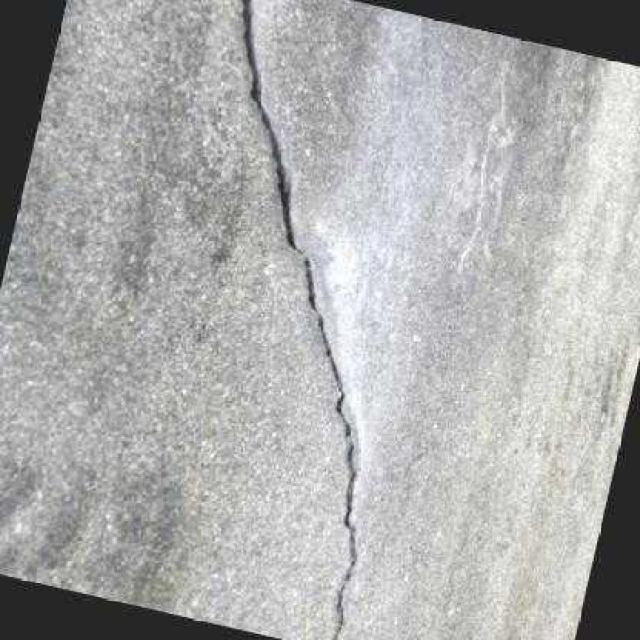D00: (239, 0, 357, 640)
